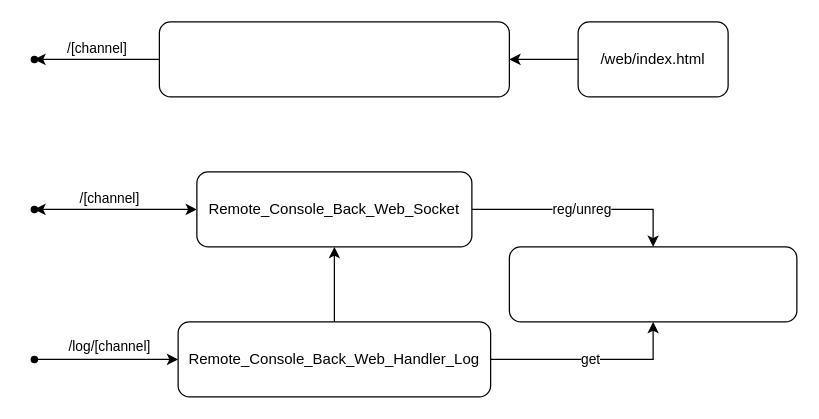
Some shapes in this 819 by 419 pixel diagram are drawn without their labels. The centre of each missing label's shape, as x and y in pixels:
"Remote_Console_Back_Mod_Registry" belongs at [652,284].
"Remote_Console_Back_Web_Handler_Channel" belongs at [333,59].
